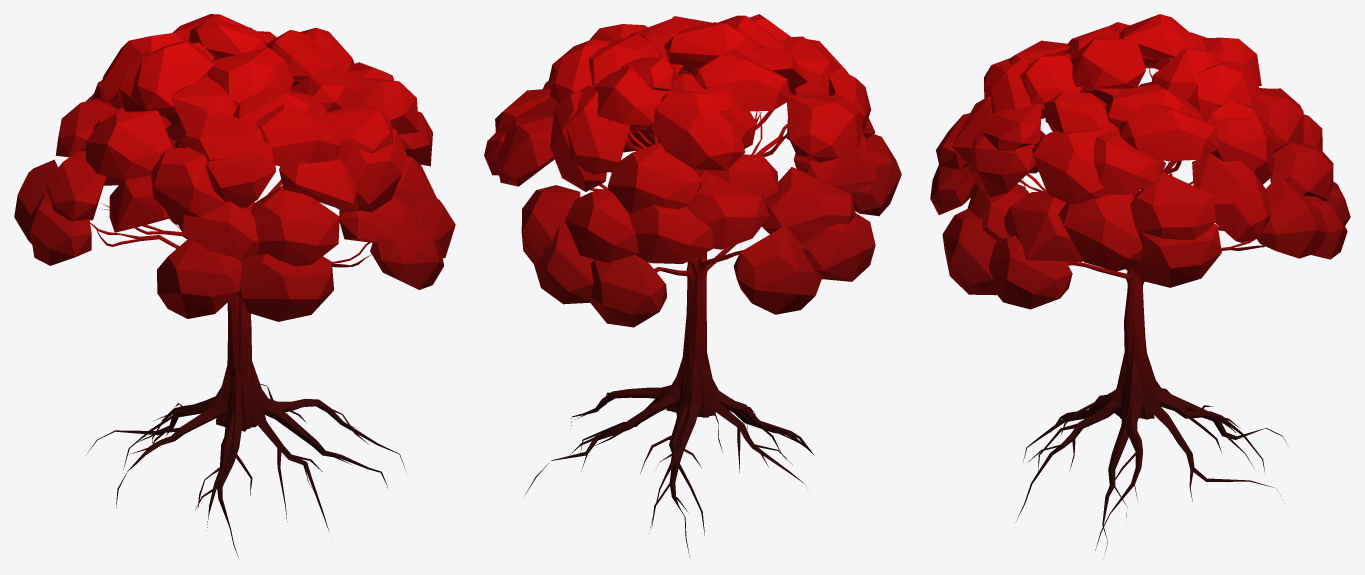
File: TreeMahogany05.fbx
3 renders of one model, left to right at view 1: azimuth 30°, elevation 25°; view 2: azimuth 150°, elevation 25°; view 3: azimuth 270°, elevation 25°, orthographic. The views are drawn at different scales.
Visible parts, largest first — view 1: TreeMahogany05_LOD0; view 2: TreeMahogany05_LOD0; view 3: TreeMahogany05_LOD0.
Boxes of the visible parts, x1,y1,x2,y2 form: TreeMahogany05_LOD0: (14, 14, 455, 557); TreeMahogany05_LOD0: (484, 14, 901, 557); TreeMahogany05_LOD0: (930, 14, 1350, 554).
Size of what is drawn, in the model's own units: 1562 by 1910 by 1568.
